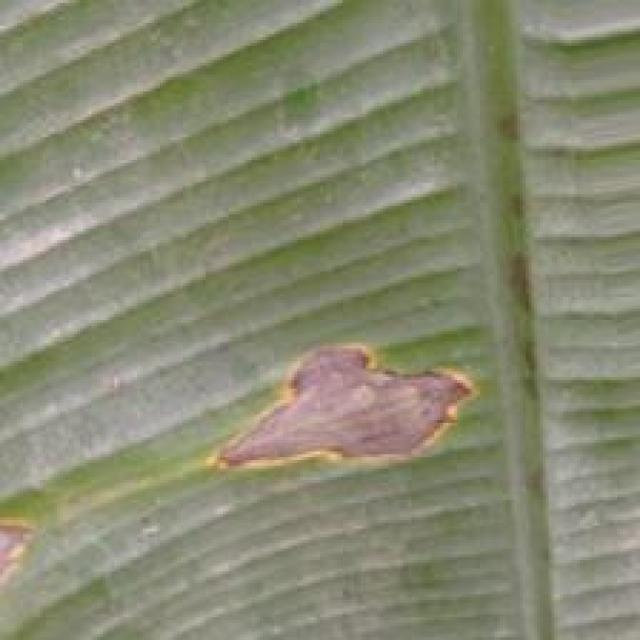Bacterial_spot: (208, 323, 494, 519), (0, 489, 60, 600)
